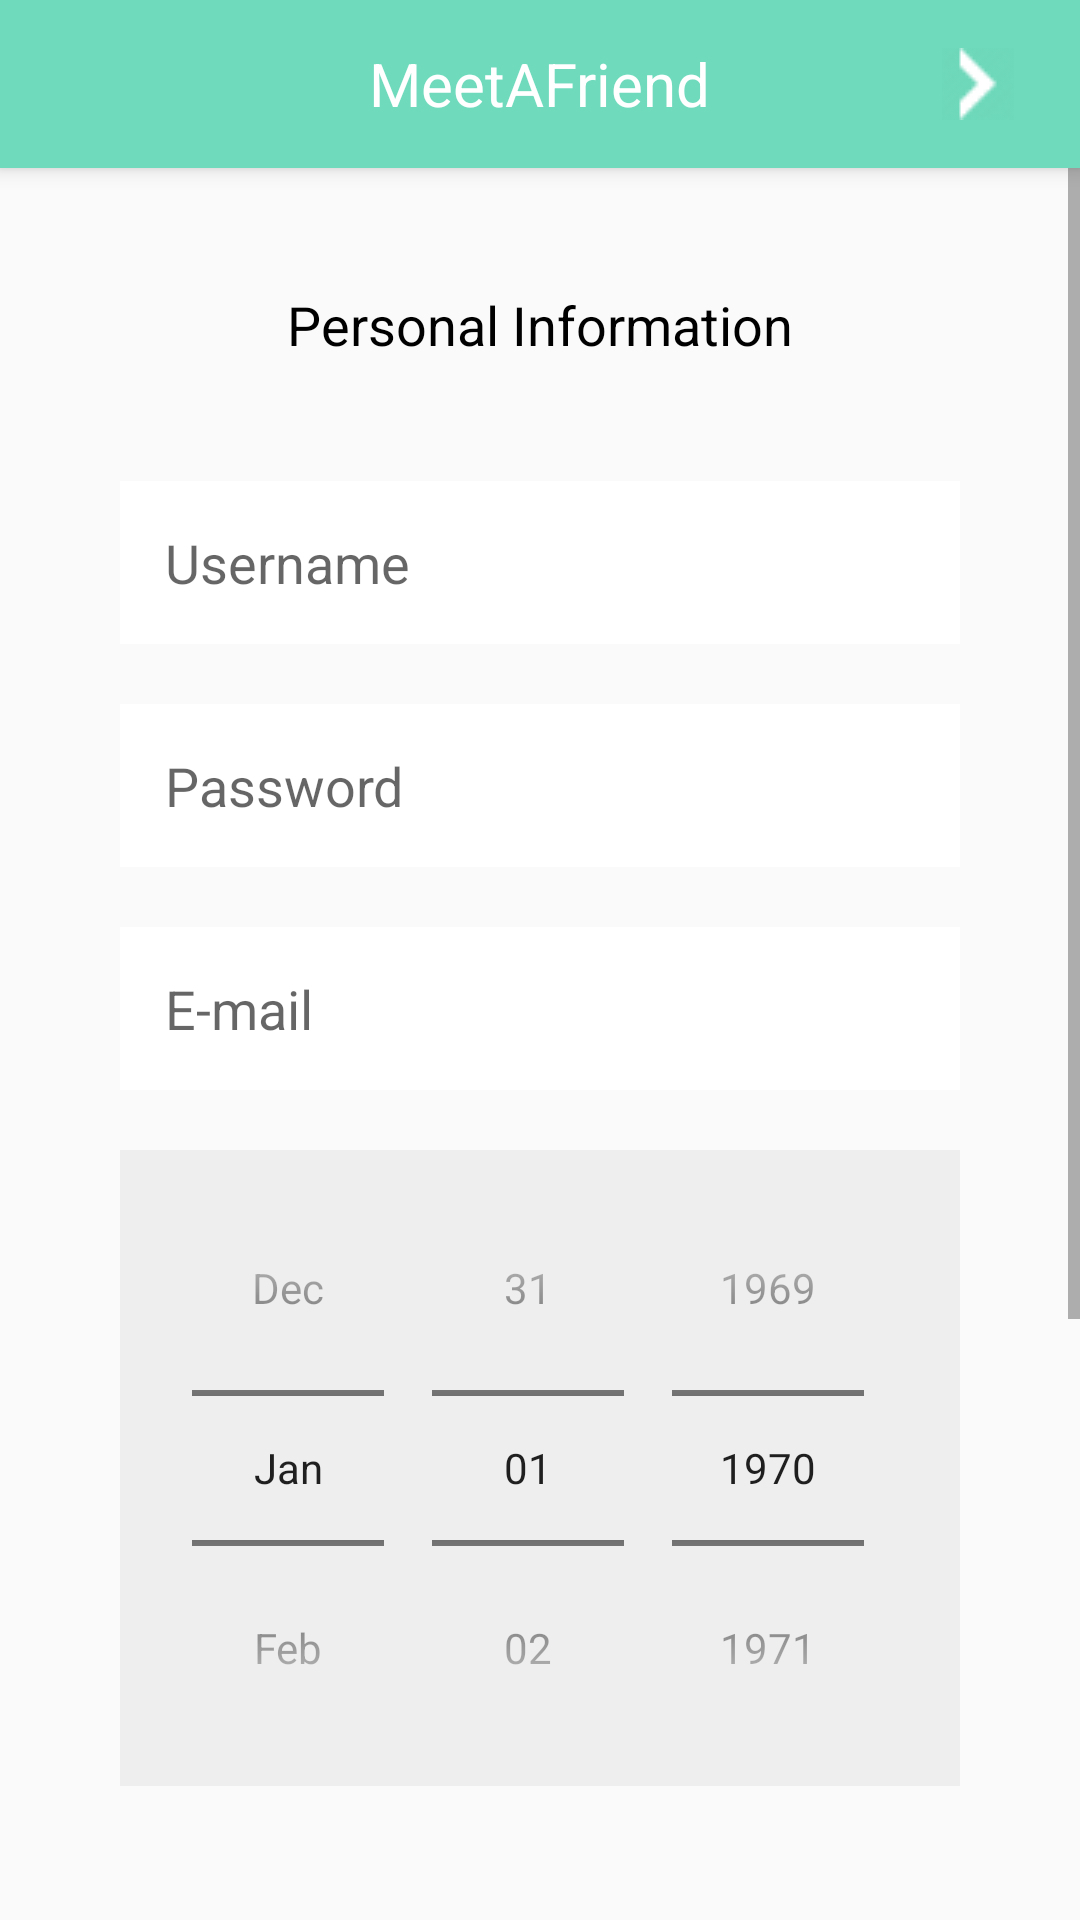

Where icons sit on this 1080*1920 app screen, as (x1, y1, x2, y2):
arrow: (959, 48, 997, 120)
